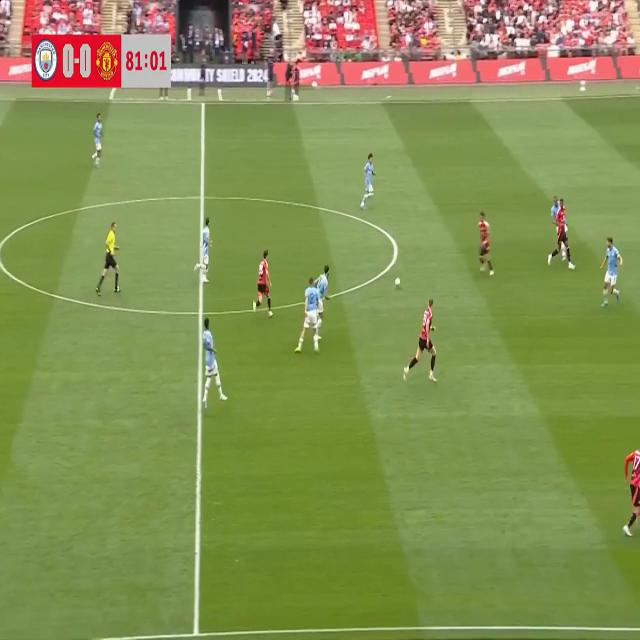ball: (393, 263, 403, 297)
players: (404, 290, 441, 390), (195, 318, 233, 412), (295, 267, 324, 363), (596, 228, 626, 316), (192, 214, 223, 298), (248, 239, 276, 324), (618, 439, 640, 545), (544, 197, 575, 268), (308, 256, 332, 344), (474, 207, 501, 284), (550, 183, 573, 268), (359, 146, 379, 215), (90, 110, 106, 170)
refree: (95, 208, 129, 298)
